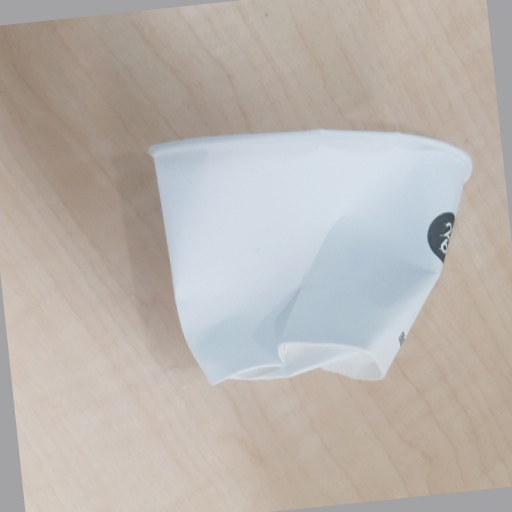Paper_1: (145, 124, 474, 386)
